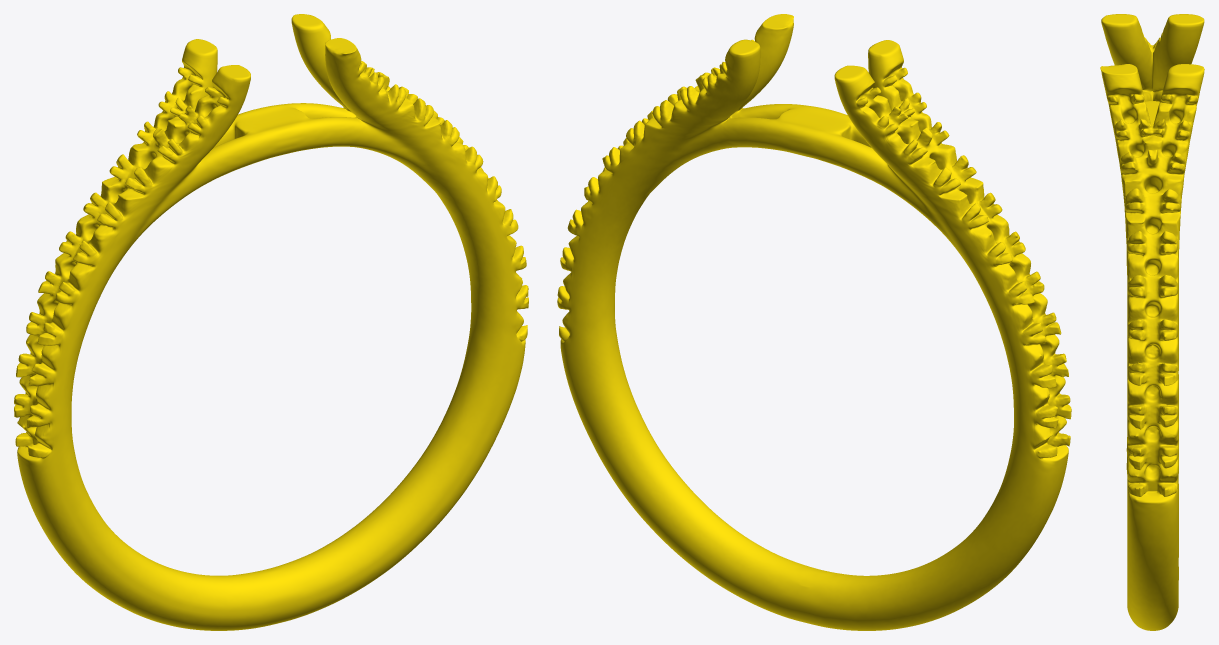
Rendered from Shank_Split_French Pave_B_No, Hidden Halo_Band.glb.
The picture shows the model from 3 angles, left to right: view 1: azimuth 30°, elevation 25°; view 2: azimuth 150°, elevation 25°; view 3: azimuth 270°, elevation 25°; orthographic projection. The views are drawn at different scales.
Size of the model in its own units: 0.0212 by 0.0233 by 0.00393.
